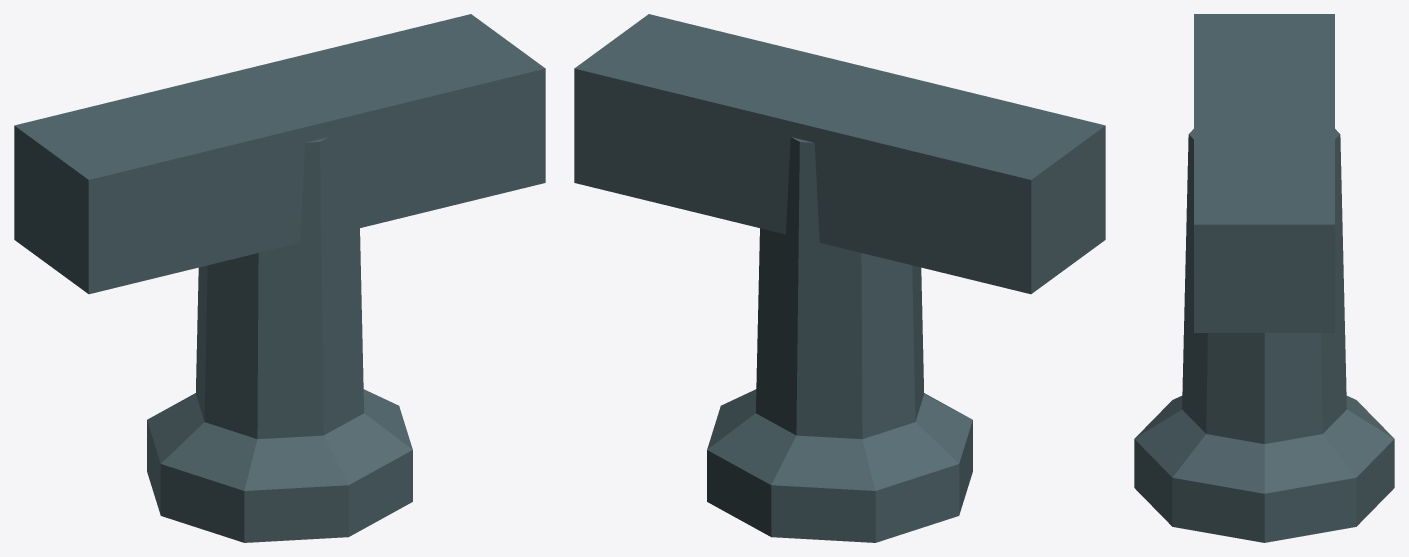
The model's file is KOL_HBR_PROP_06.fbx.
3 views of the same model, side by side, from view 1: azimuth 30°, elevation 25°; view 2: azimuth 150°, elevation 25°; view 3: azimuth 270°, elevation 25° (orthographic). The views are drawn at different scales.
Parts seen in each view (by area): view 1: KOL_HBR_PROP_06__Model__DarkSteel; view 2: KOL_HBR_PROP_06__Model__DarkSteel; view 3: KOL_HBR_PROP_06__Model__DarkSteel.
Part boxes in pixels (x1,y1,x2,y2): KOL_HBR_PROP_06__Model__DarkSteel: (14, 14, 545, 542); KOL_HBR_PROP_06__Model__DarkSteel: (574, 14, 1105, 542); KOL_HBR_PROP_06__Model__DarkSteel: (1134, 14, 1394, 542).
Bounding box in the file's own units: 2.3 × 1.88 × 1.2.
